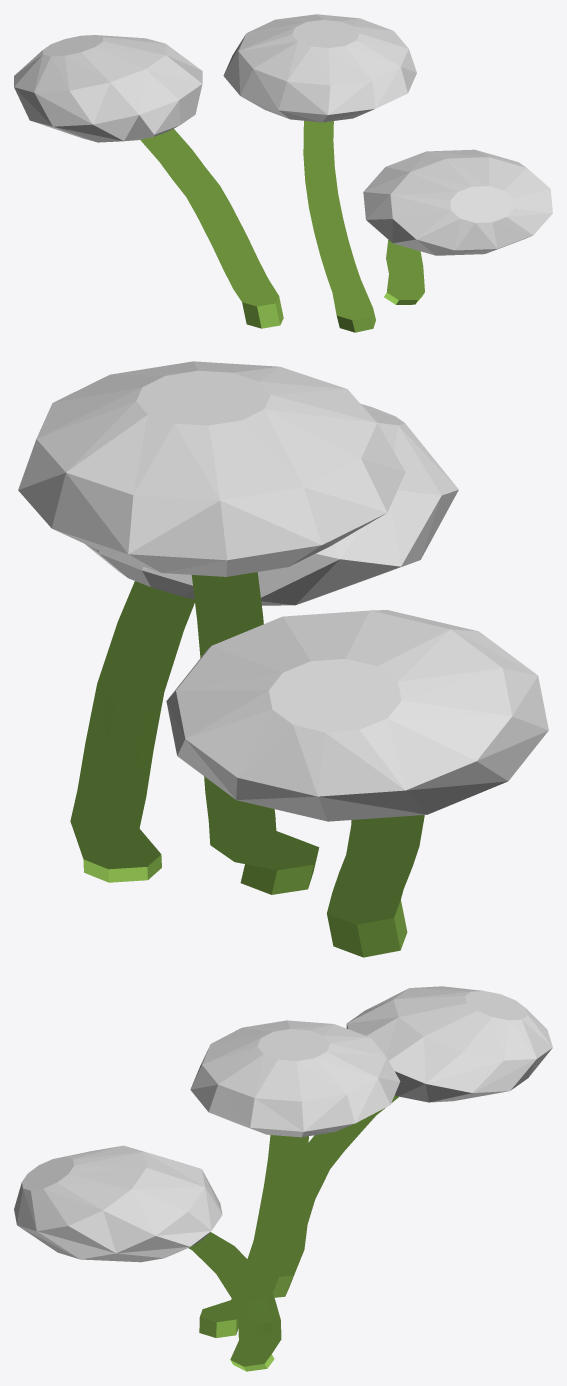
The model's file is flow.fbx.
3 renders of one model, top to bottom at view 1: azimuth 30°, elevation 25°; view 2: azimuth 150°, elevation 25°; view 3: azimuth 270°, elevation 25°, orthographic. The views are drawn at different scales.
Visible parts, largest first — view 1: Node; view 2: Node; view 3: Node.
Boxes of the visible parts, bbox=[...] form: Node: bbox=[14, 14, 552, 332]; Node: bbox=[18, 361, 548, 957]; Node: bbox=[14, 986, 552, 1371].
Bounding box in the file's own units: 52.88 × 37.34 × 62.96.
